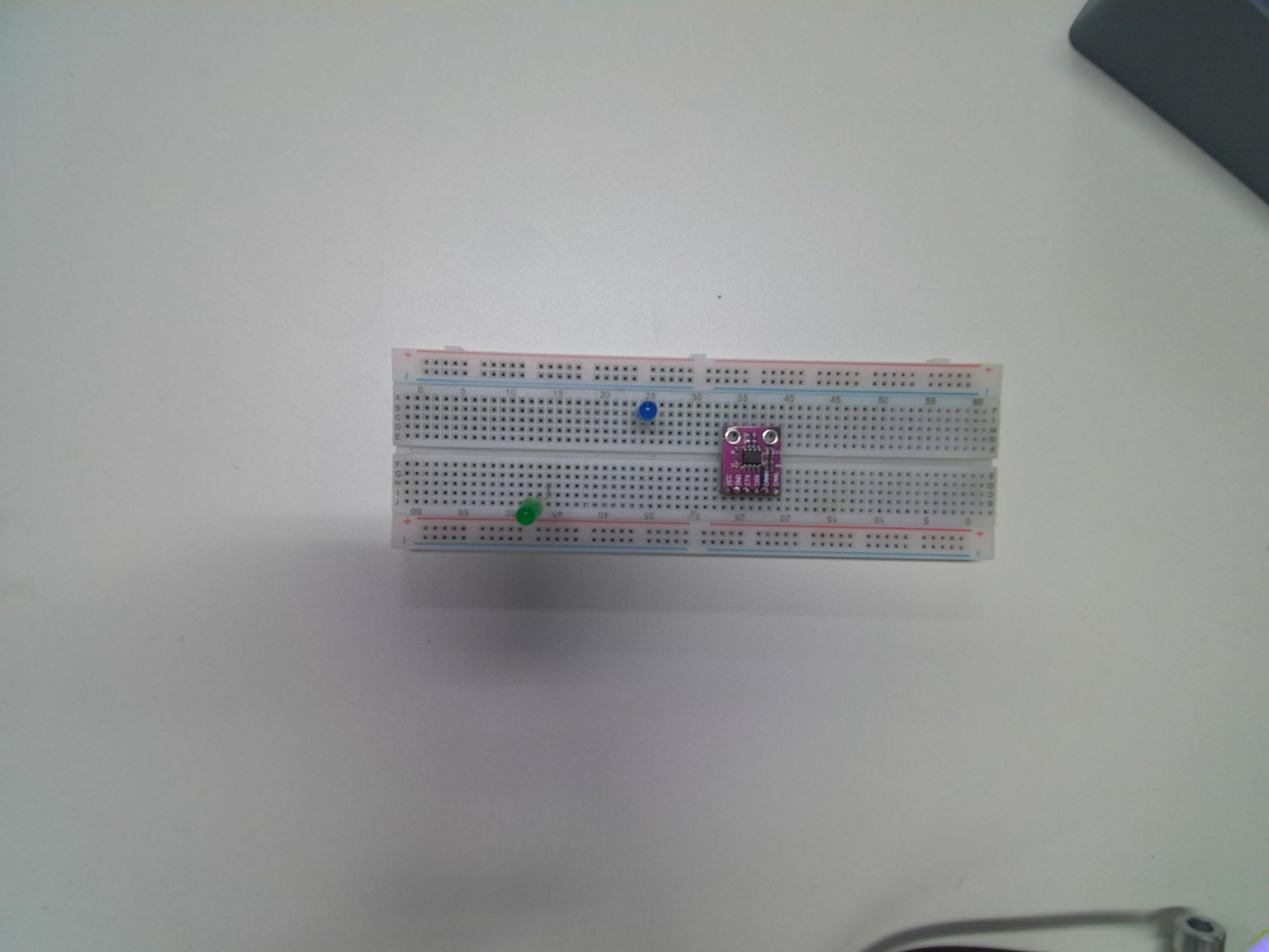base: (388, 350, 1007, 563)
blue-led: (636, 399, 659, 423)
green-led: (517, 500, 541, 525)
purple-board: (719, 424, 782, 499)
